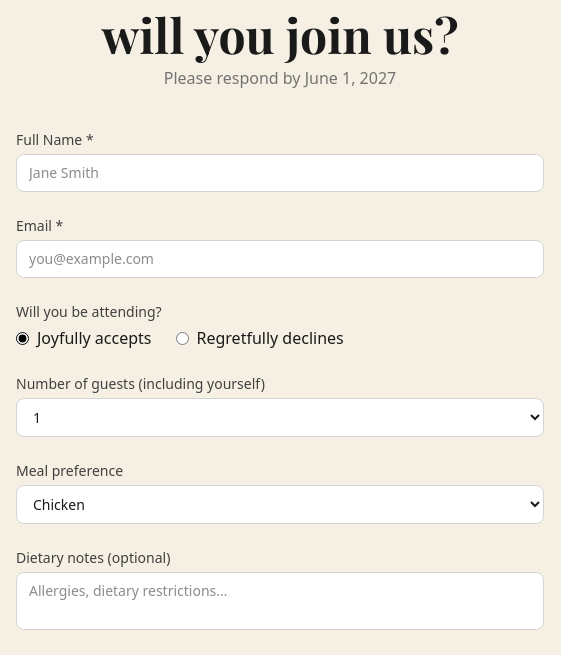
RSVPPage › hides guestCount and mealChoice when attending=no
The image size is (561, 655).
Click the radio button labelled "Regretfully declines": point(182, 338) [176,332,188,344]
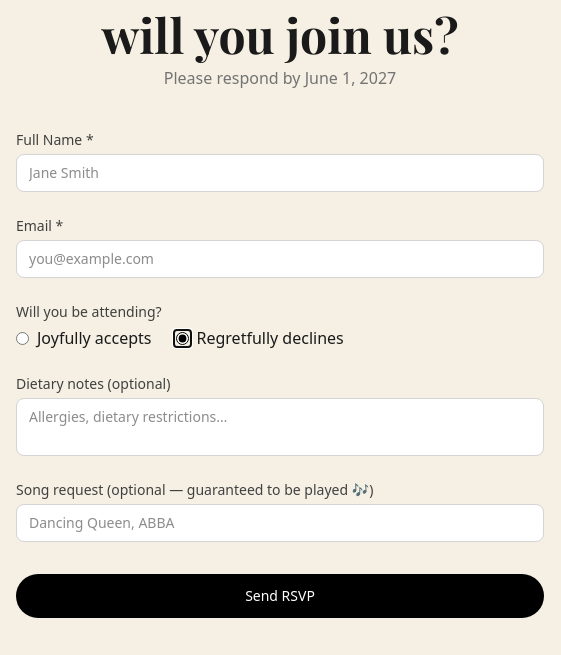
expect the text "Number of guests" is gone: met
expect the text "Meal preference" is gone: met
